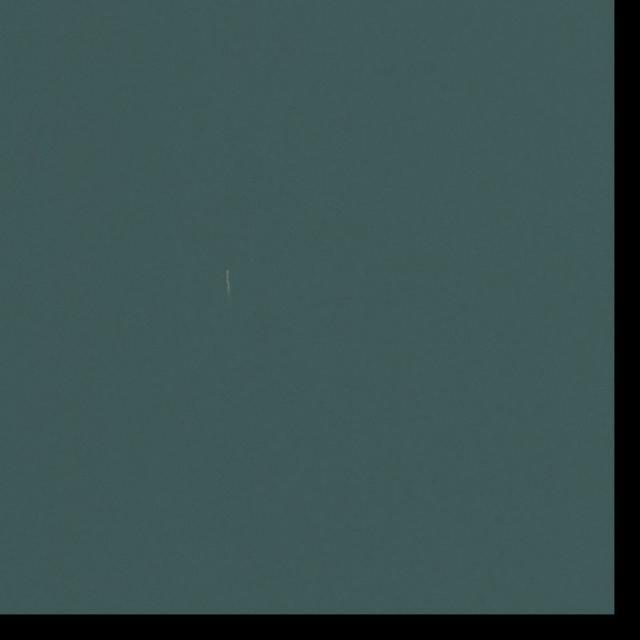ship: (226, 269, 231, 285)
